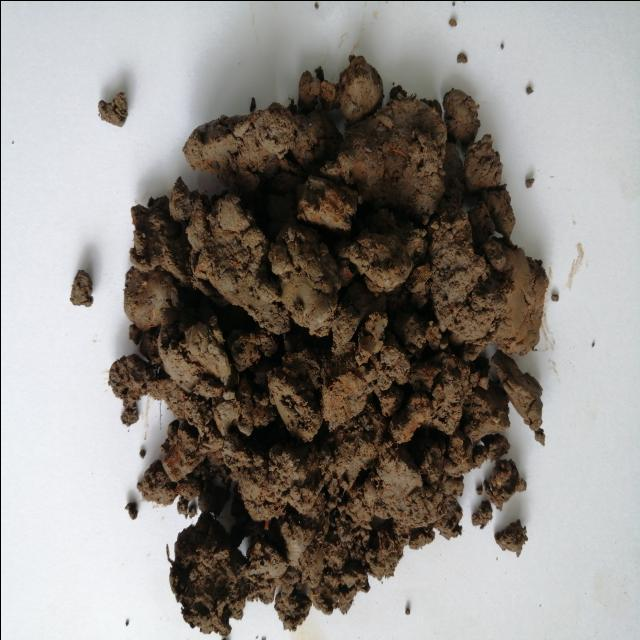soil: (142, 123, 516, 564)
